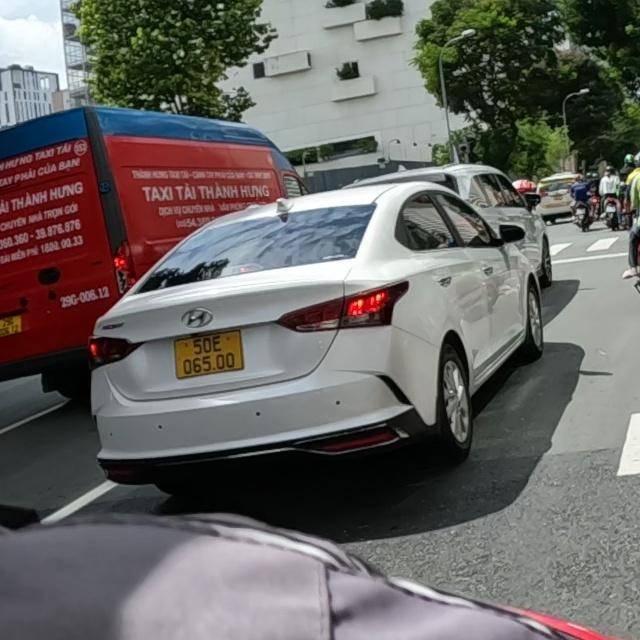car: (84, 182, 552, 512)
plate: (158, 324, 252, 380)
